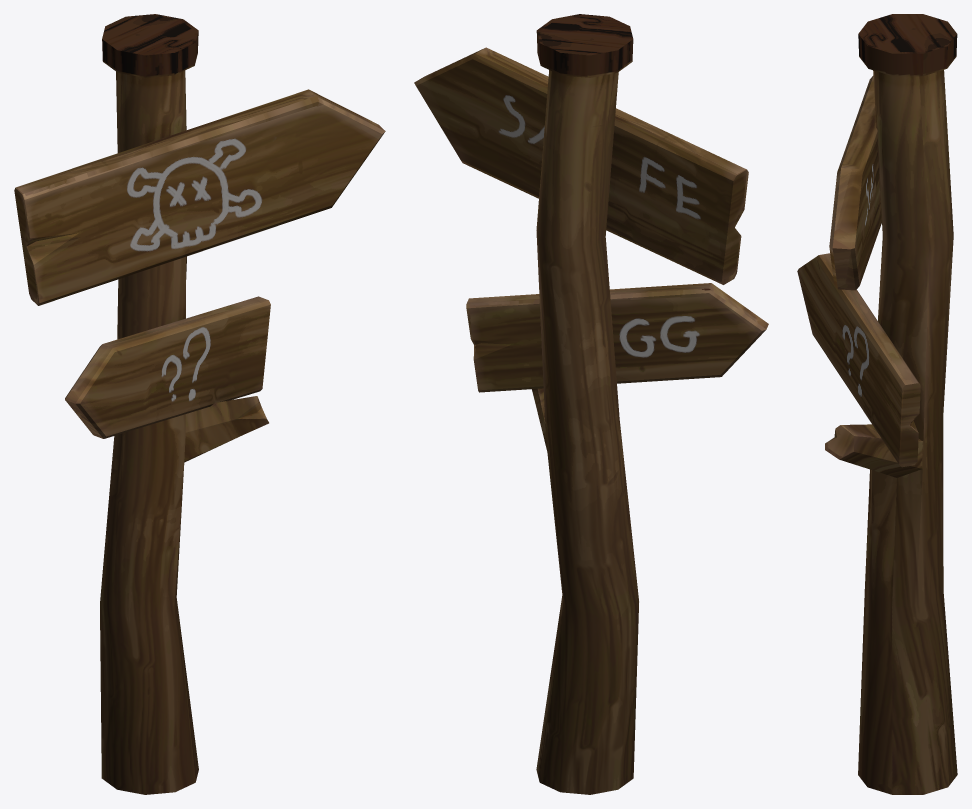
File: Sign.fbx
3 renders of one model, left to right at view 1: azimuth 30°, elevation 25°; view 2: azimuth 150°, elevation 25°; view 3: azimuth 270°, elevation 25°, orthographic.
Parts seen in each view (by area): view 1: Cylinder.008; view 2: Cylinder.008; view 3: Cylinder.008.
Part boxes in pixels (x1=…): Cylinder.008: x1=14, y1=14, x2=385, y2=794; Cylinder.008: x1=414, y1=14, x2=768, y2=794; Cylinder.008: x1=797, y1=14, x2=957, y2=794.
Size of the model in its own units: 145 by 297 by 58.24.
Materials: 1 (1 with a texture image).
